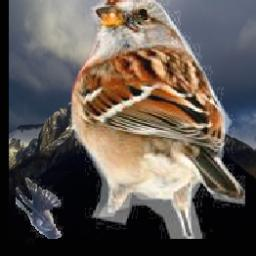Sparrow: (69, 0, 245, 239)
Swallow: (15, 176, 63, 240)
